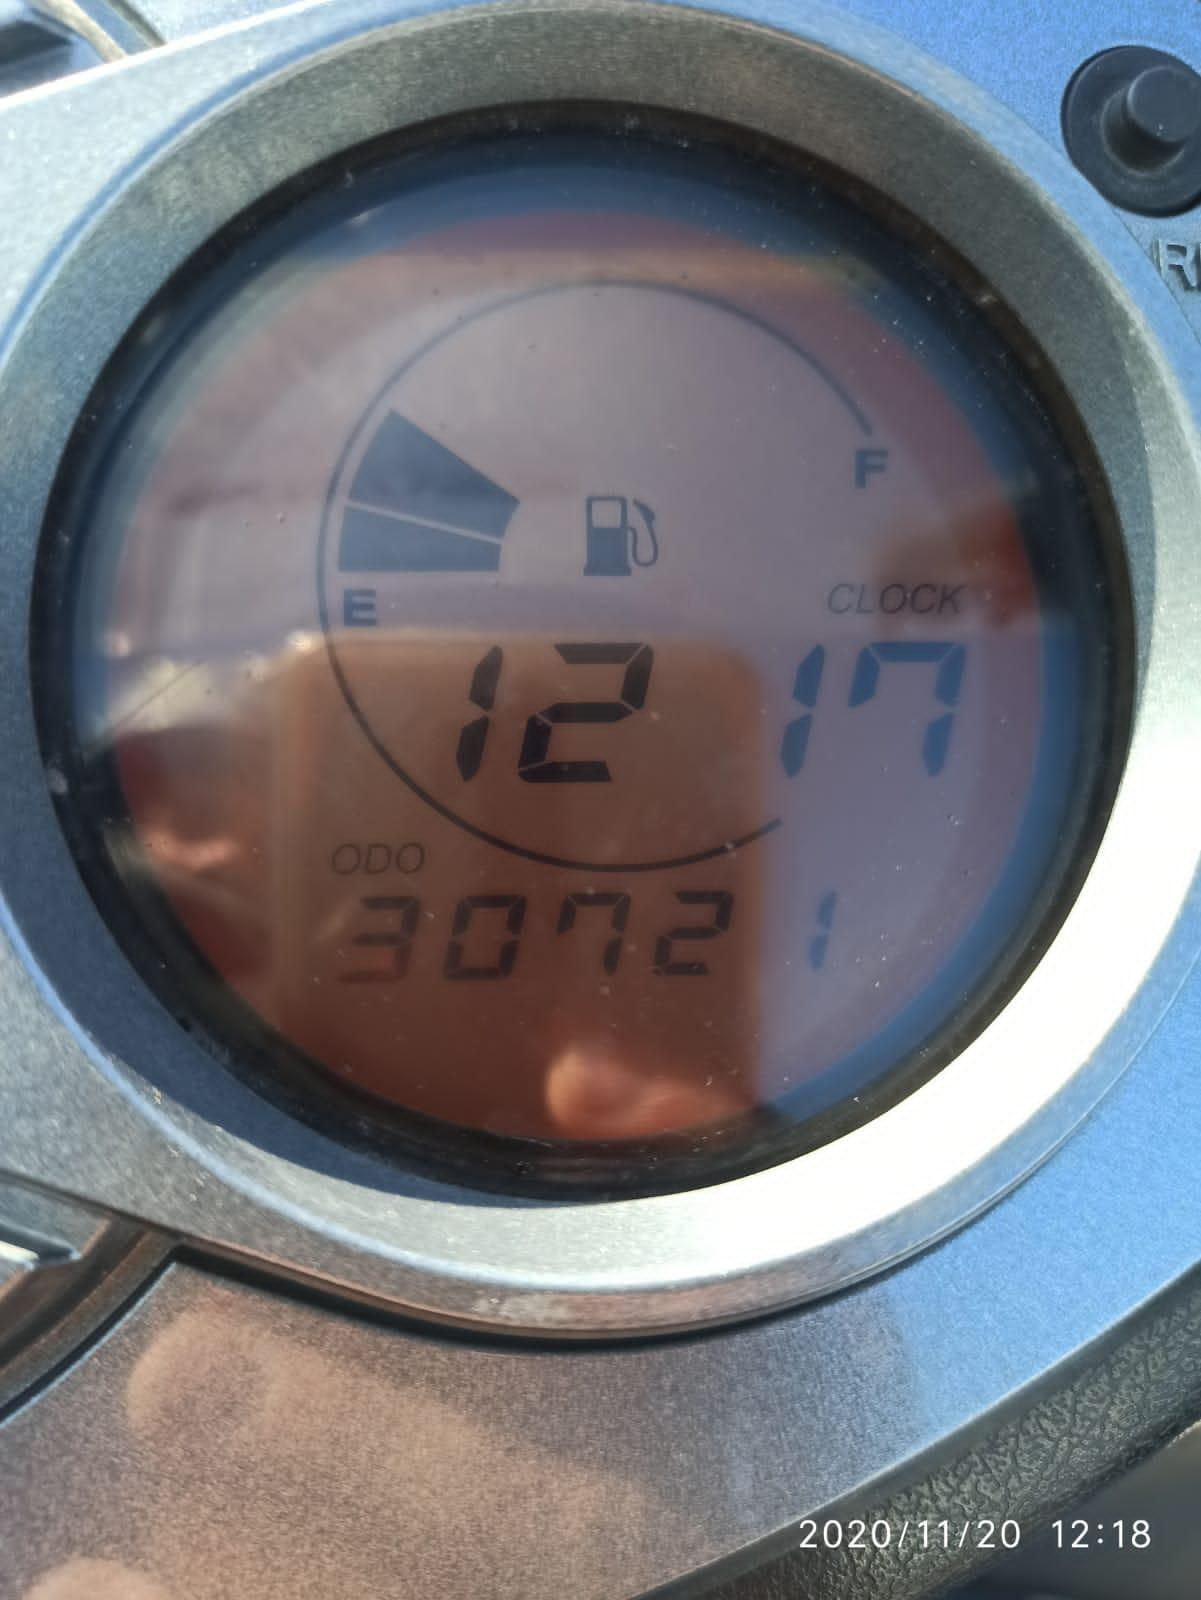0: (442, 891, 530, 982)
1: (776, 638, 834, 789), (447, 638, 505, 784), (804, 888, 841, 974)
2: (517, 636, 652, 794), (651, 887, 735, 979)
3: (337, 892, 424, 985)
7: (848, 633, 978, 784), (553, 890, 635, 978)
X: (336, 582, 384, 633), (847, 440, 892, 495), (937, 579, 970, 616), (394, 839, 426, 874), (877, 580, 910, 615), (362, 840, 394, 876), (331, 840, 362, 876), (826, 579, 853, 617), (910, 580, 936, 616), (853, 578, 876, 617)
odometer: (20, 86, 1139, 1221)
